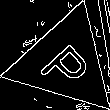P_NE: (33, 32, 97, 93)
